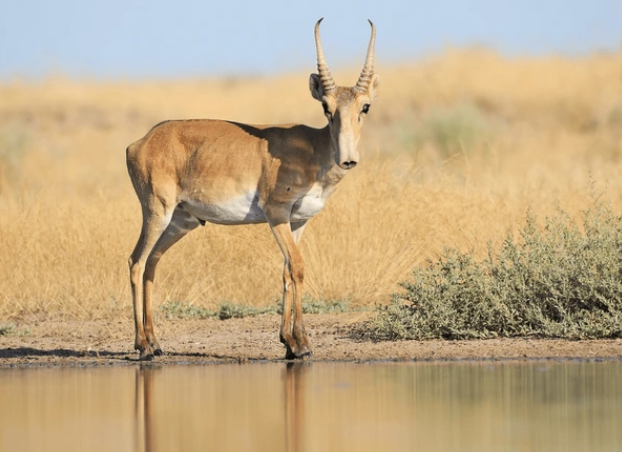saiga: (122, 9, 388, 368)
